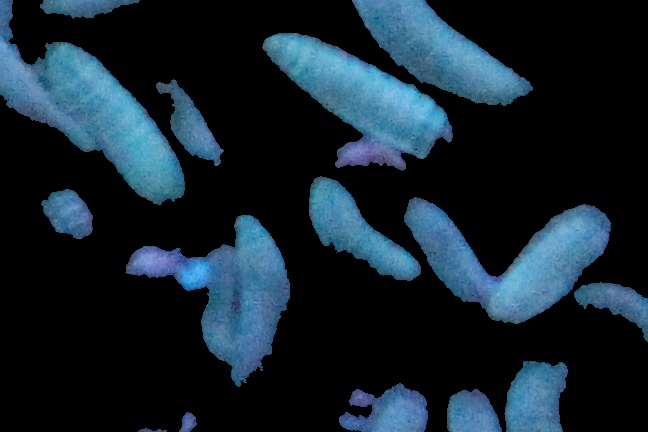larvae: (17, 23, 206, 216), (251, 21, 462, 150), (330, 1, 541, 101), (290, 170, 427, 293), (485, 197, 605, 328), (225, 213, 294, 410), (407, 198, 482, 308), (42, 1, 277, 27)
